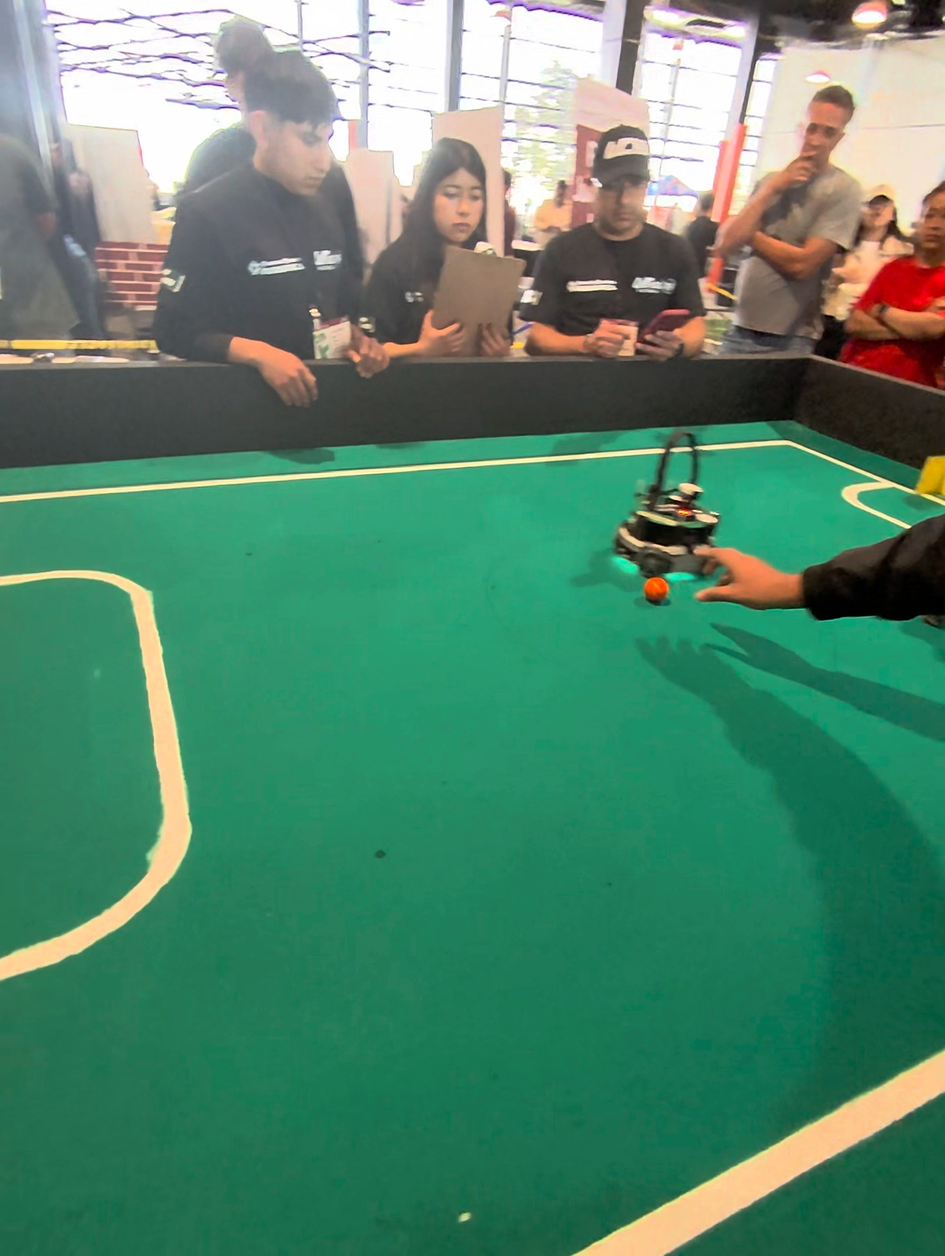Robot: (610, 436, 727, 583)
pelota: (638, 571, 680, 609)
